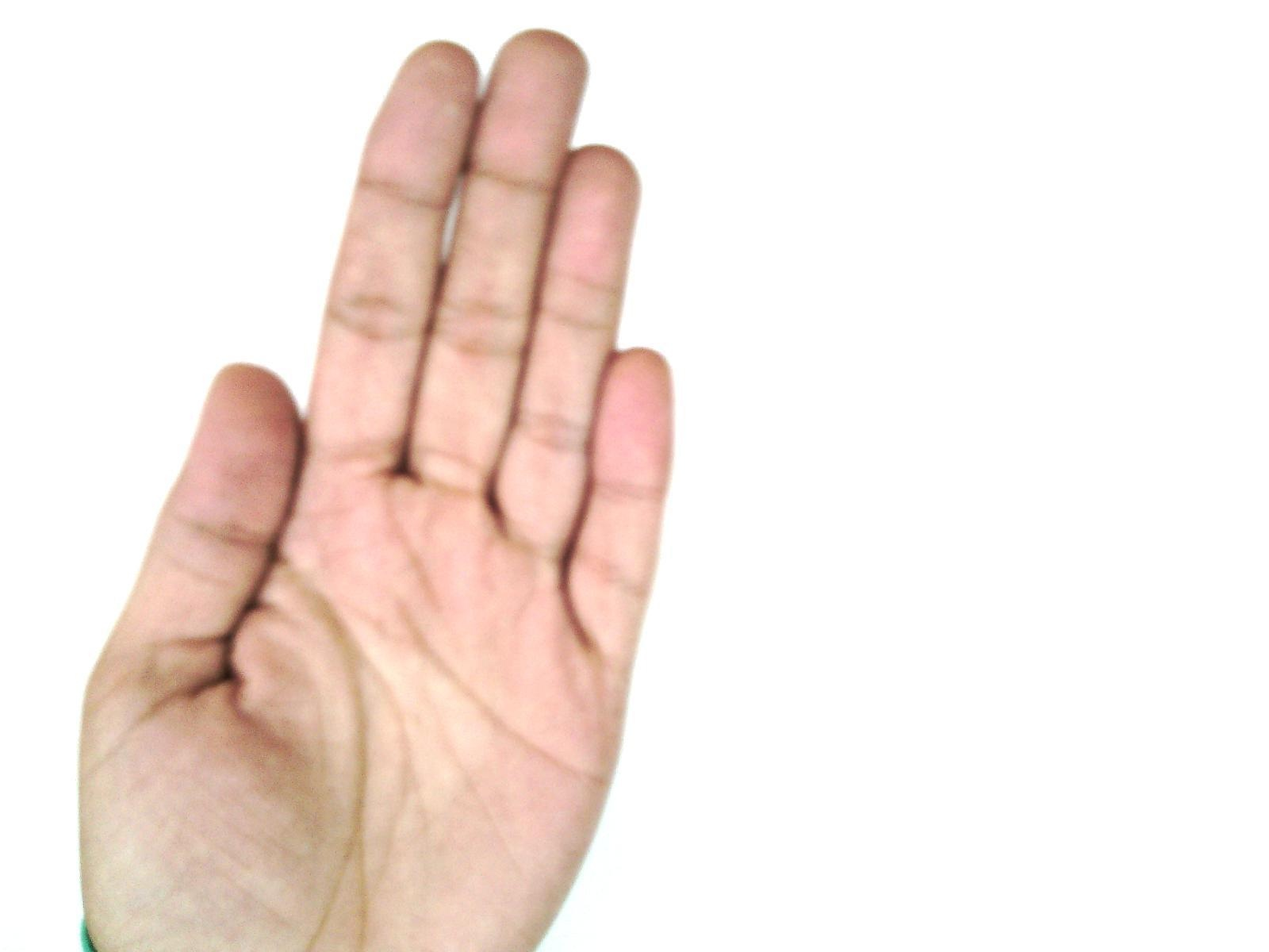open_palm: (74, 28, 680, 951)
